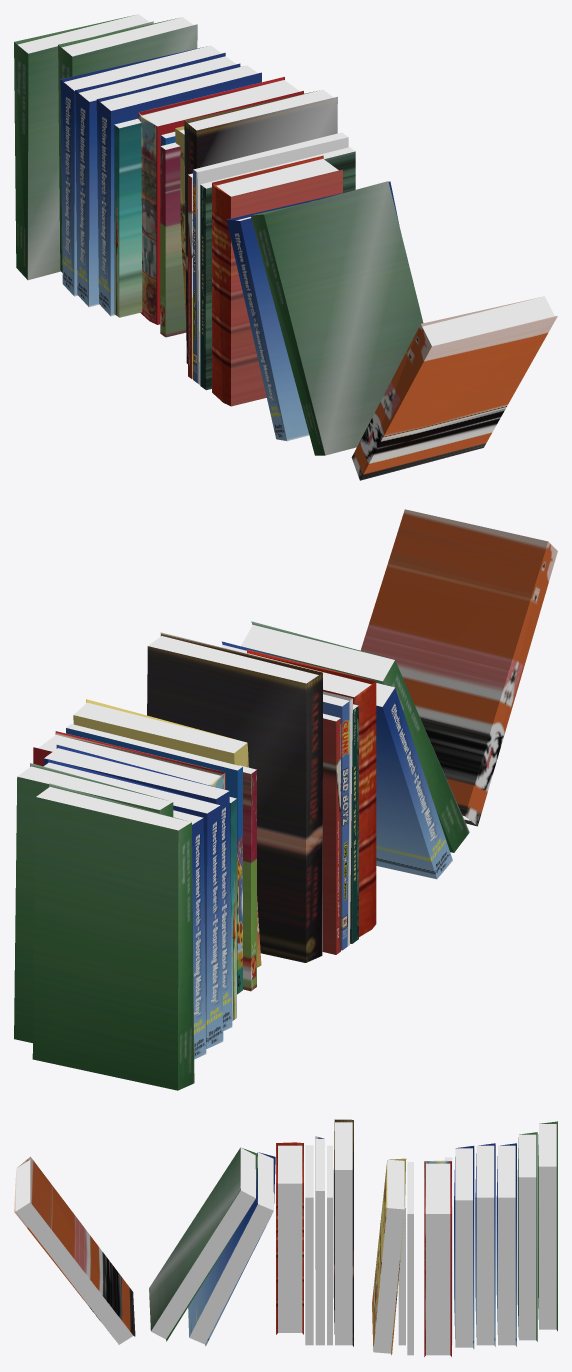
File: books 7.fbx
3 renders of one model, top to bottom at view 1: azimuth 30°, elevation 25°; view 2: azimuth 150°, elevation 25°; view 3: azimuth 270°, elevation 25°, orthographic. The views are drawn at different scales.
Visible parts, largest first — view 1: books 7; view 2: books 7; view 3: books 7.
Boxes of the visible parts, bbox=[...] form: books 7: bbox=[14, 14, 557, 480]; books 7: bbox=[14, 509, 557, 1090]; books 7: bbox=[14, 1119, 557, 1356].
Bounding box in the file's own units: 22.57 × 26.69 × 73.89.
